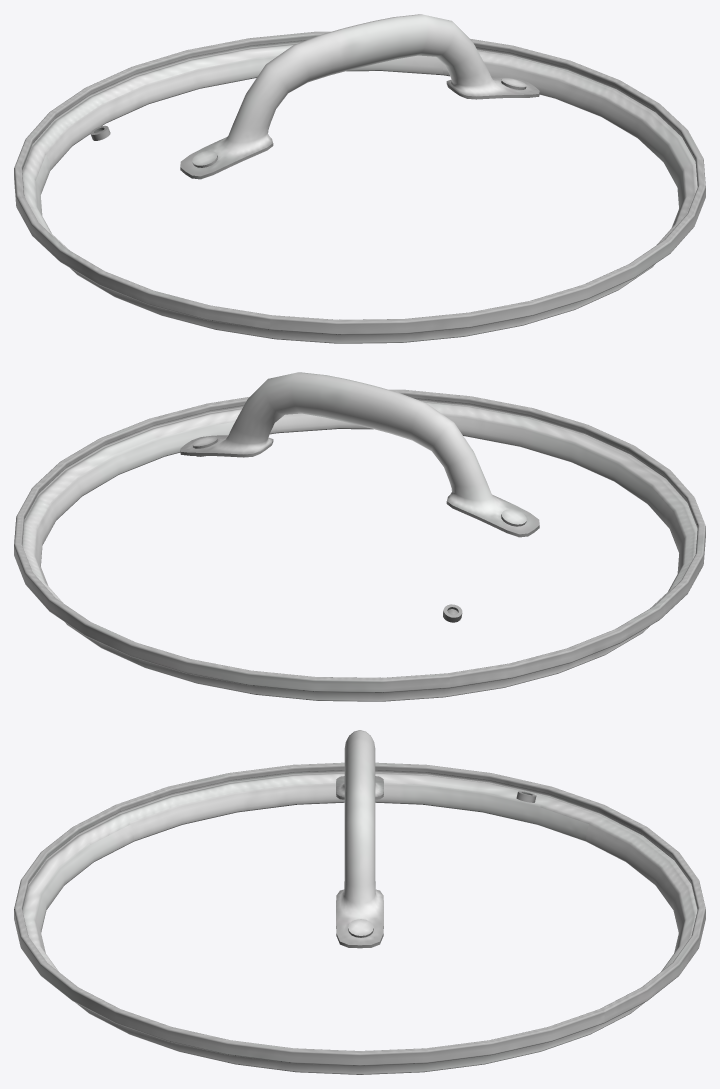
The model's file is steamer_lid.glb.
3 views of the same model, one above another, from view 1: azimuth 30°, elevation 25°; view 2: azimuth 150°, elevation 25°; view 3: azimuth 270°, elevation 25° (orthographic).
Visible parts, largest first — view 1: PotLid; view 2: PotLid; view 3: PotLid.
Boxes of the visible parts, x1,y1,x2,y2 form: PotLid: (14,14,705,343); PotLid: (14,372,705,701); PotLid: (14,730,705,1074).
Bounding box in the file's own units: 0.208 × 0.06 × 0.208.
1 material, 1 textured.
